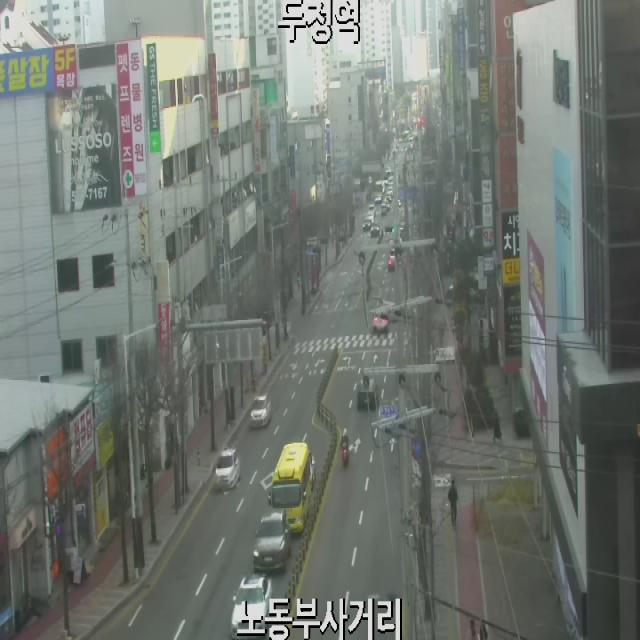Bus: (268, 443, 310, 533)
Car: (253, 509, 291, 574), (232, 575, 271, 638), (215, 448, 239, 488), (250, 393, 272, 428), (357, 378, 378, 411), (373, 312, 388, 333), (310, 455, 316, 490), (370, 222, 380, 237), (362, 219, 372, 231), (368, 204, 376, 218), (388, 256, 395, 271), (366, 212, 373, 221)
Motorcycle: (336, 421, 357, 472)
